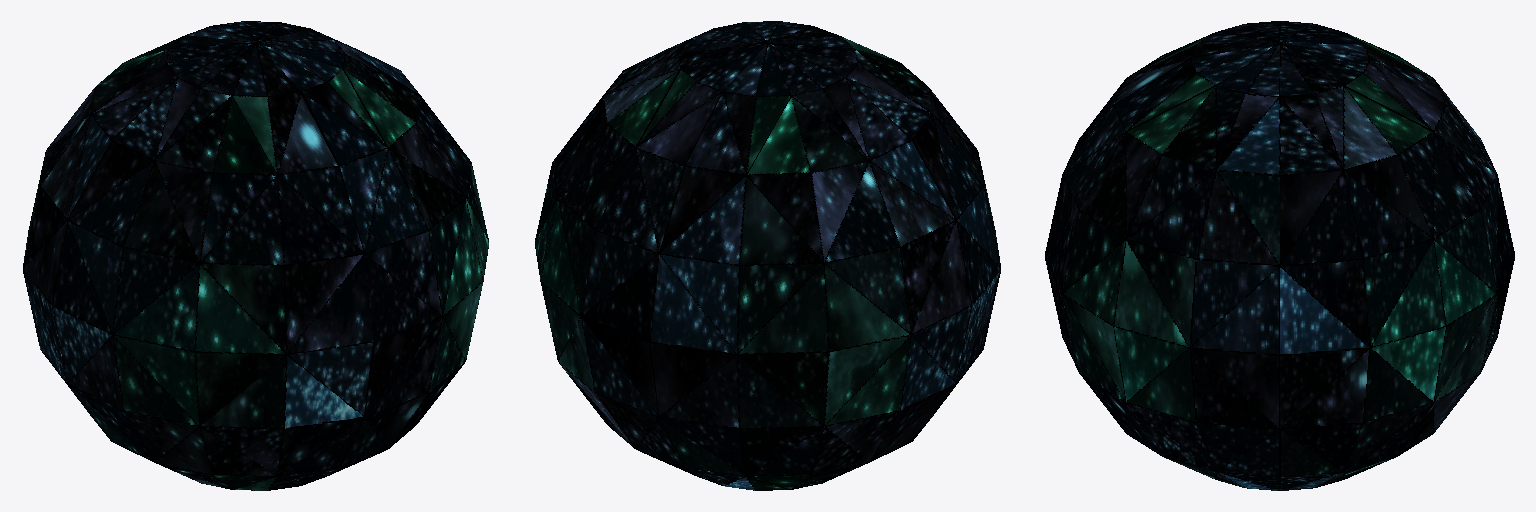
The picture shows the model from 3 angles: view 1: azimuth 30°, elevation 25°; view 2: azimuth 150°, elevation 25°; view 3: azimuth 270°, elevation 25°; orthographic projection.
Parts seen in each view (by area): view 1: sphere5; view 2: sphere5; view 3: sphere5.
Boxes of the visible parts, <box> form: sphere5: <box>23,21,488,490</box>; sphere5: <box>535,21,1000,490</box>; sphere5: <box>1045,21,1514,490</box>.
Bounding box in the file's own units: 2 × 2 × 2.
Materials: 1 (1 with a texture image).